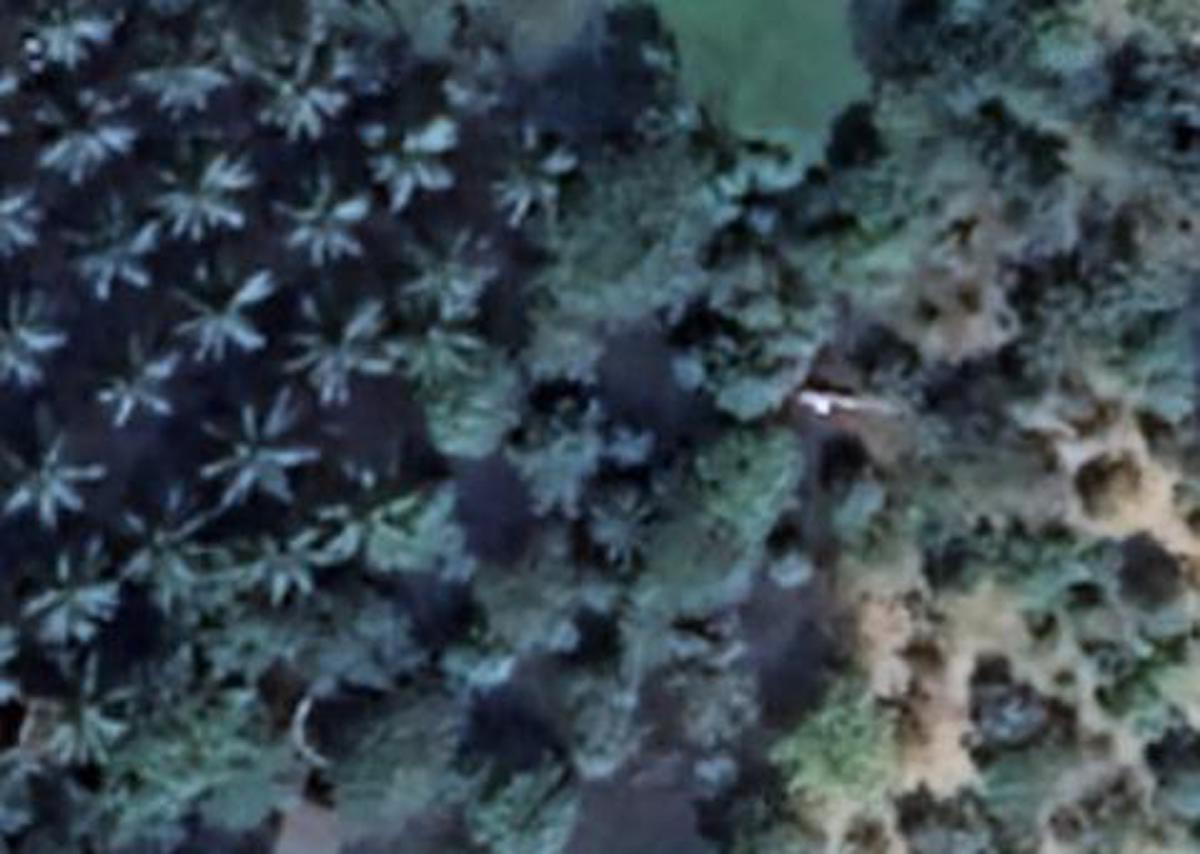coconut: (192, 393, 335, 510), (0, 440, 112, 533), (27, 77, 127, 180), (285, 295, 385, 398), (360, 110, 458, 212), (157, 150, 265, 240), (273, 170, 368, 270), (70, 190, 155, 300), (130, 483, 212, 596), (22, 560, 117, 656), (405, 225, 498, 323), (177, 267, 275, 360), (50, 666, 125, 776), (253, 57, 345, 142), (501, 120, 571, 225), (95, 338, 177, 425), (237, 525, 328, 603), (137, 40, 222, 120), (0, 290, 65, 393), (22, 0, 110, 70), (395, 323, 478, 393), (586, 495, 656, 565), (0, 175, 37, 250)
